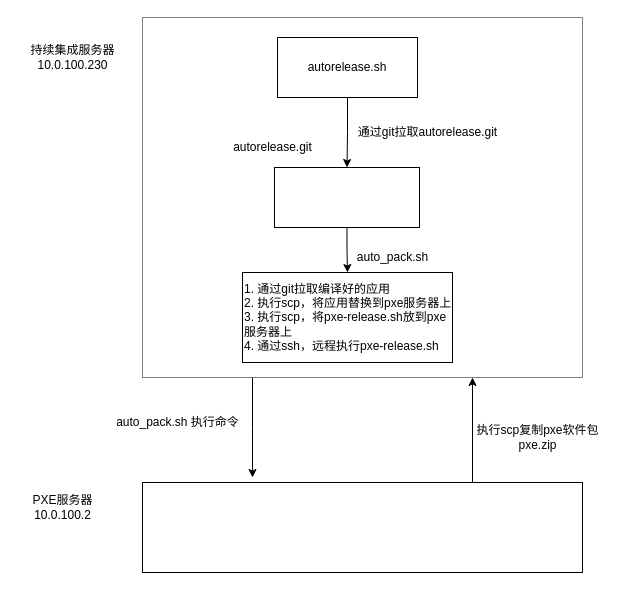
Image size: 629x590. Some labels were removed from this diagram. The centre of each missing label's shape, as x and y in pixels:
"1. pxe-release.sh 2. pxe基础软件目录" goes at point (362, 527).
"auto_pack.sh pxe-release.sh" goes at point (347, 197).
